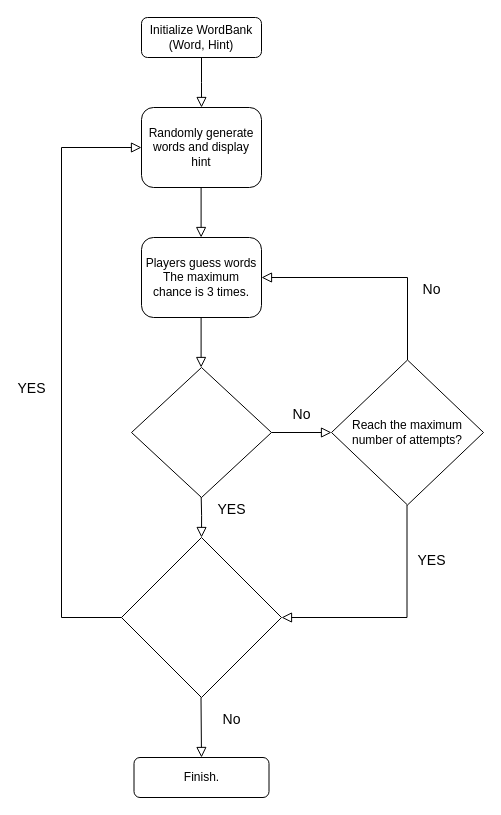
The diagram is 501 pixels wide and 815 high, and some of its shapes have lost their labels. The centre of each missing label's shape, as x and y in pixels:
Correct?: the point at 201,432
Show correct answer And whether to continue.: the point at 201,617
